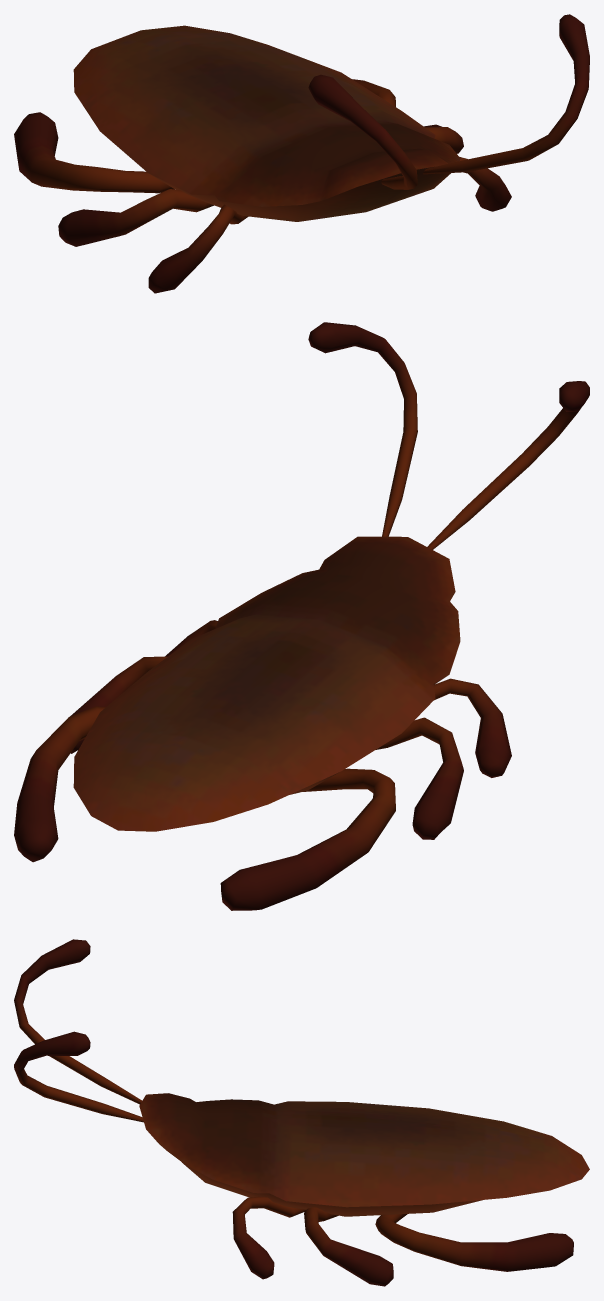
Rendered from Cockroach.glb.
3 renders of one model, top to bottom at view 1: azimuth 30°, elevation 25°; view 2: azimuth 150°, elevation 25°; view 3: azimuth 270°, elevation 25°, orthographic. The views are drawn at different scales.
Parts seen in each view (by area): view 1: group77__mCockroach; view 2: group77__mCockroach; view 3: group77__mCockroach.
Boxes of the visible parts, box(x1,y1,x2,y2) form: group77__mCockroach: box(14, 14, 589, 293); group77__mCockroach: box(14, 322, 589, 910); group77__mCockroach: box(14, 939, 589, 1286).
Bounding box in the file's own units: 1.05 × 0.8021 × 1.76.
Materials: 1 (1 with a texture image).
